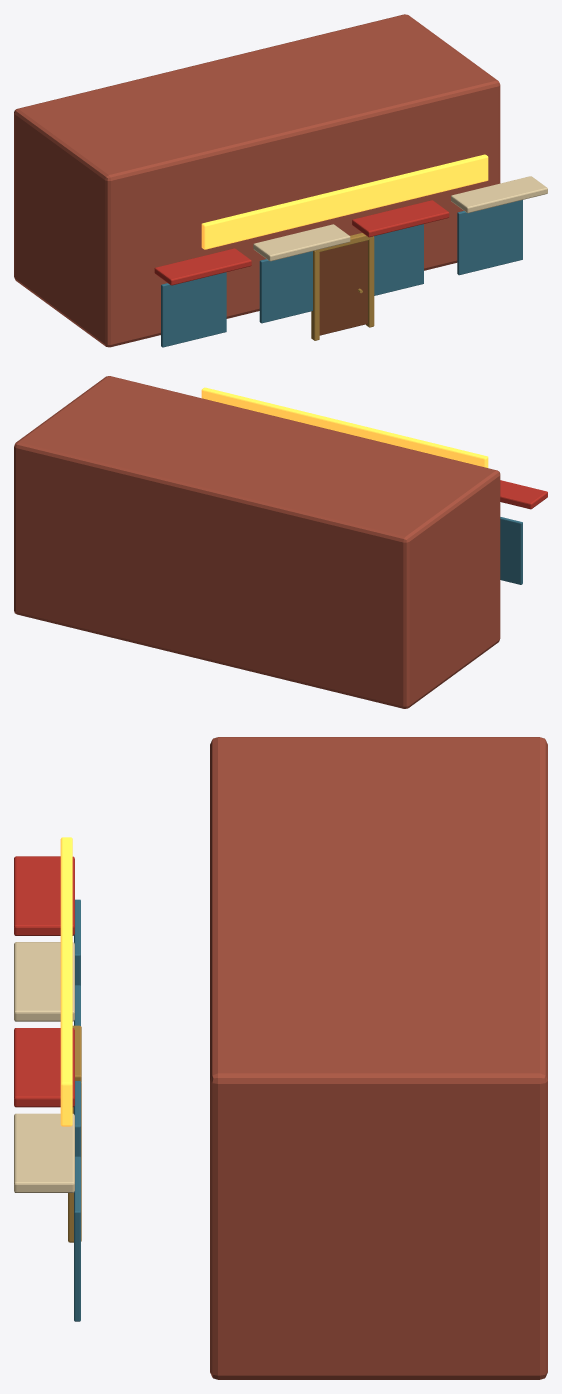
Rendered from neighborhood_diner_a.glb.
3 views of the same model, one above another, from view 1: azimuth 30°, elevation 25°; view 2: azimuth 150°, elevation 25°; view 3: azimuth 270°, elevation 25° (orthographic). The views are drawn at different scales.
Visible parts, largest first — view 1: SET_Building, SET_SignBand, SET_Business_Door, SET_Window_0, SET_Window_3, SET_Window_1, SET_Window_2, SET_Awning_2, SET_Awning_0, SET_Awning_1, SET_Awning_3, SET_Business_Jamb_L (+1 smaller); view 2: SET_Building, SET_SignBand, SET_Window_0, SET_Awning_0; view 3: SET_Building, SET_Awning_3, SET_Awning_2, SET_Awning_0, SET_Awning_1, SET_SignBand, SET_Window_3.
Part boxes in pixels (x1,y1,x2,y2): SET_Building: [14, 14, 500, 347]; SET_SignBand: [201, 154, 488, 249]; SET_Business_Door: [319, 240, 367, 335]; SET_Window_0: [161, 272, 226, 347]; SET_Window_3: [457, 200, 522, 275]; SET_Window_1: [259, 251, 312, 323]; SET_Window_2: [374, 224, 423, 295]; SET_Awning_2: [352, 200, 449, 237]; SET_Awning_0: [154, 248, 251, 285]; SET_Awning_1: [253, 224, 350, 261]; SET_Awning_3: [451, 176, 547, 213]; SET_Business_Jamb_L: [311, 250, 319, 340]; SET_Building: [14, 376, 500, 708]; SET_SignBand: [201, 387, 488, 467]; SET_Window_0: [500, 517, 522, 584]; SET_Awning_0: [500, 480, 547, 509]; SET_Building: [210, 737, 547, 1379]; SET_Awning_3: [14, 1113, 74, 1192]; SET_Awning_2: [14, 1028, 74, 1107]; SET_Awning_0: [14, 856, 74, 935]; SET_Awning_1: [14, 942, 74, 1021]; SET_SignBand: [60, 837, 72, 1126]; SET_Window_3: [74, 1156, 80, 1321].
Size of what is drawn, in the model's own units: 12 by 5.09 by 7.9.
